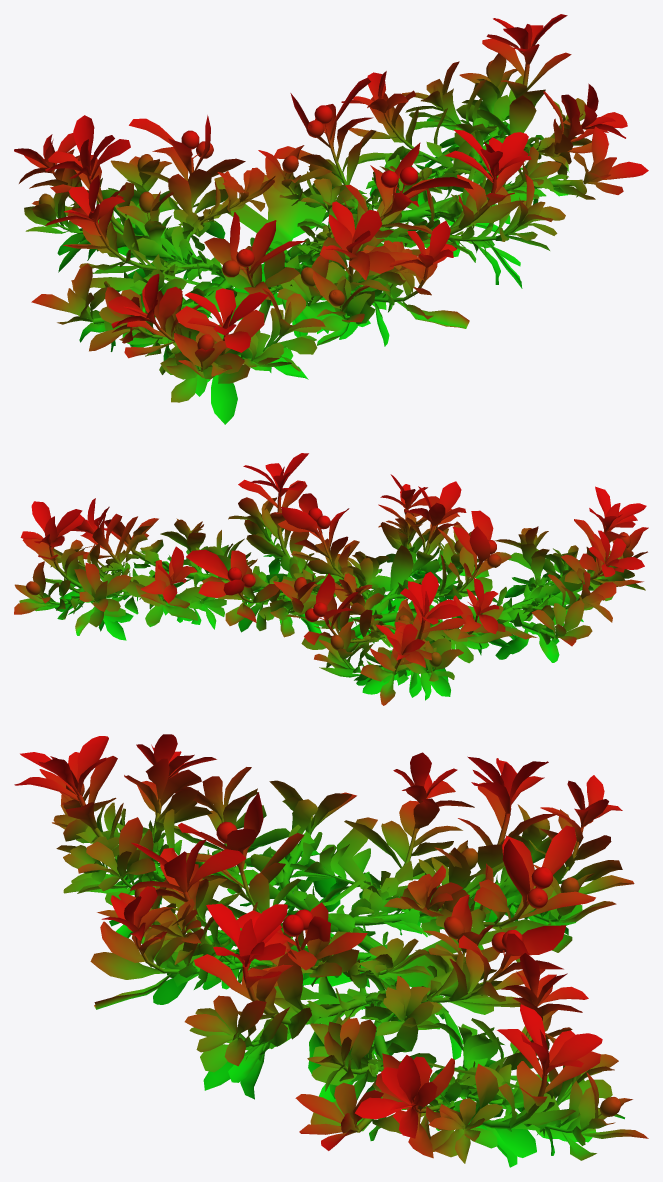
Rendered from Alpine Bearberry_LOD1_Var11_xb0gdazqx.fbx.
3 views of the same model, one above another, from view 1: azimuth 30°, elevation 25°; view 2: azimuth 150°, elevation 25°; view 3: azimuth 270°, elevation 25° (orthographic). The views are drawn at different scales.
Visible parts, largest first — view 1: _bbga_Var11_LOD1; view 2: _bbga_Var11_LOD1; view 3: _bbga_Var11_LOD1.
Part boxes in pixels (x1,y1,x2,y2): _bbga_Var11_LOD1: (14,14,648,424); _bbga_Var11_LOD1: (14,453,648,705); _bbga_Var11_LOD1: (14,734,648,1167).
Bounding box in the file's own units: 51.13 × 13.11 × 38.3.
